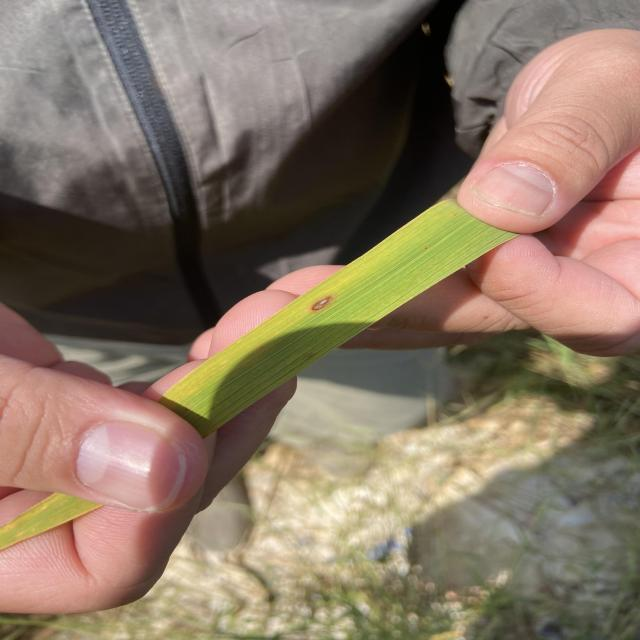Dom nau: (311, 296, 332, 311)
